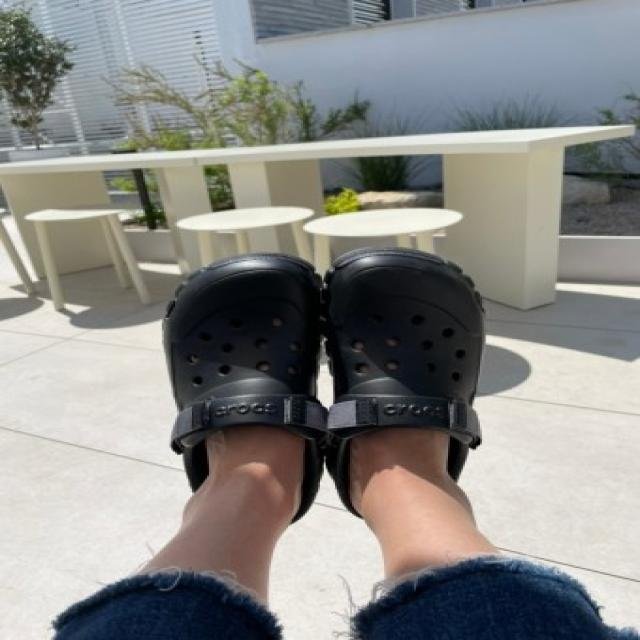no-boots: (290, 236, 508, 509), (98, 264, 307, 540)
